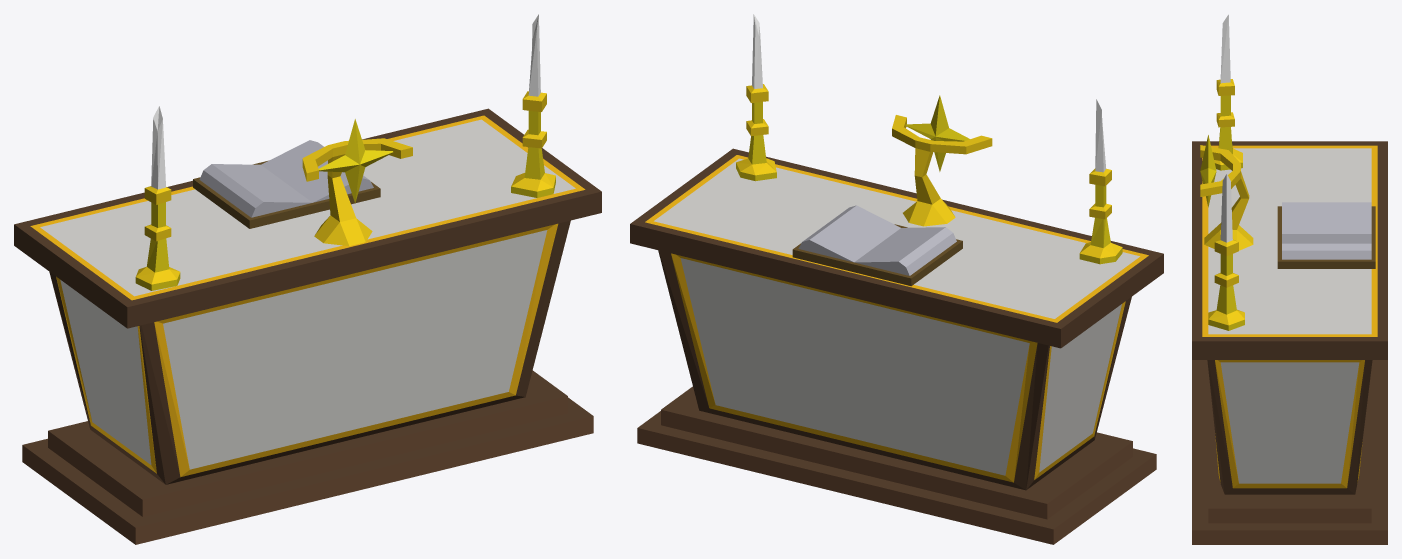
Rendered from chapel-altar.gltf.
3 views of the same model, side by side, from view 1: azimuth 30°, elevation 25°; view 2: azimuth 150°, elevation 25°; view 3: azimuth 270°, elevation 25° (orthographic). The views are drawn at different scales.
Size of the model in its own units: 232 by 193 by 96.
Materials: 1 (1 with a texture image).
